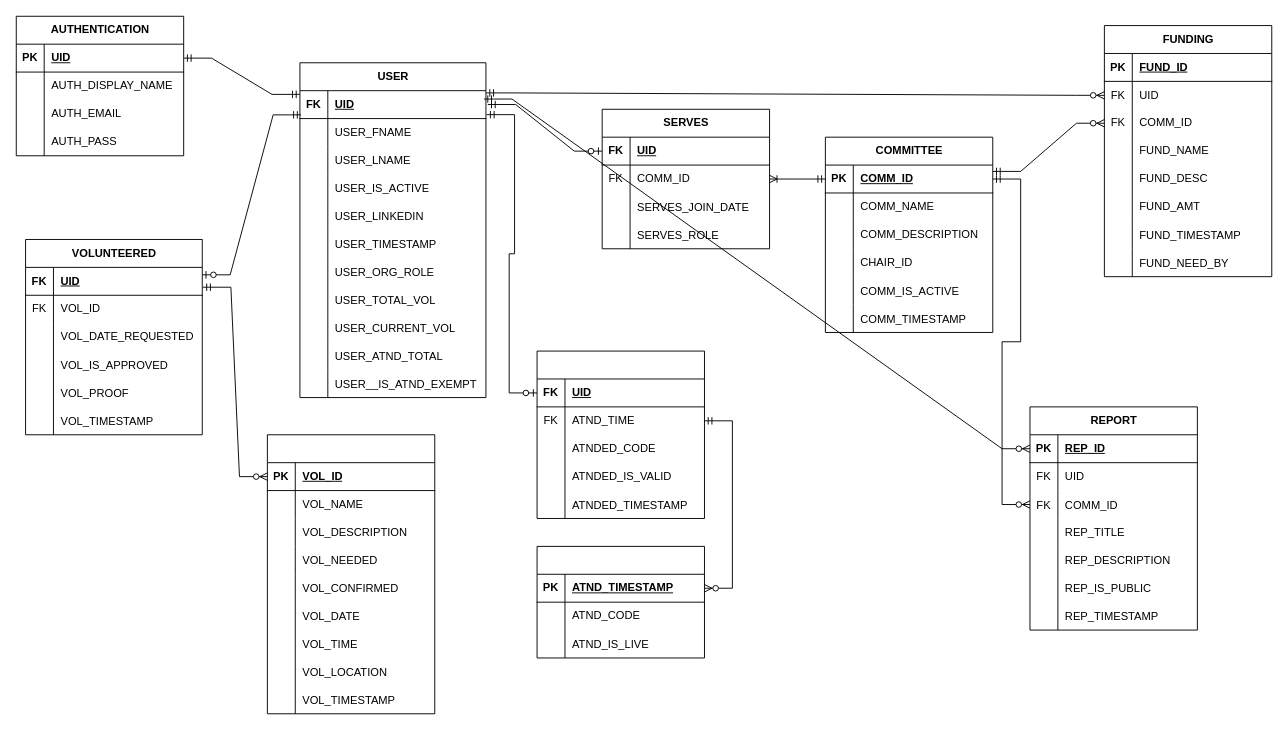
Image size: 1288x730. Some labels were removed from this diagram. Each missing label, with the box of its shape:
ATTENDANCE: (536, 545, 704, 658)
ATTENDED: (536, 350, 704, 518)
VOLUNTEER: (266, 434, 435, 714)
